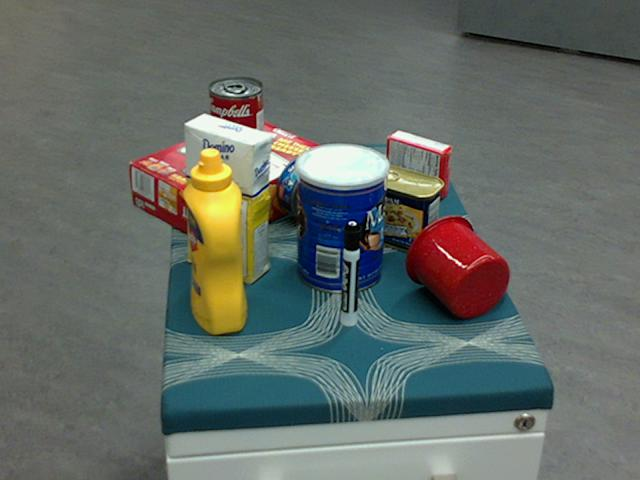cracker_box: (128, 115, 332, 251)
gelatin_box: (386, 130, 452, 200)
large_marker: (341, 222, 359, 327)
master_chef_can: (295, 143, 388, 293)
mug: (405, 214, 510, 318)
mustard_bottle: (183, 148, 246, 334)
potted_meat_can: (357, 163, 443, 251)
sugar_box: (184, 114, 271, 285)
tomato_soup_can: (208, 77, 264, 172)
tuna_fish_can: (275, 151, 342, 221)
